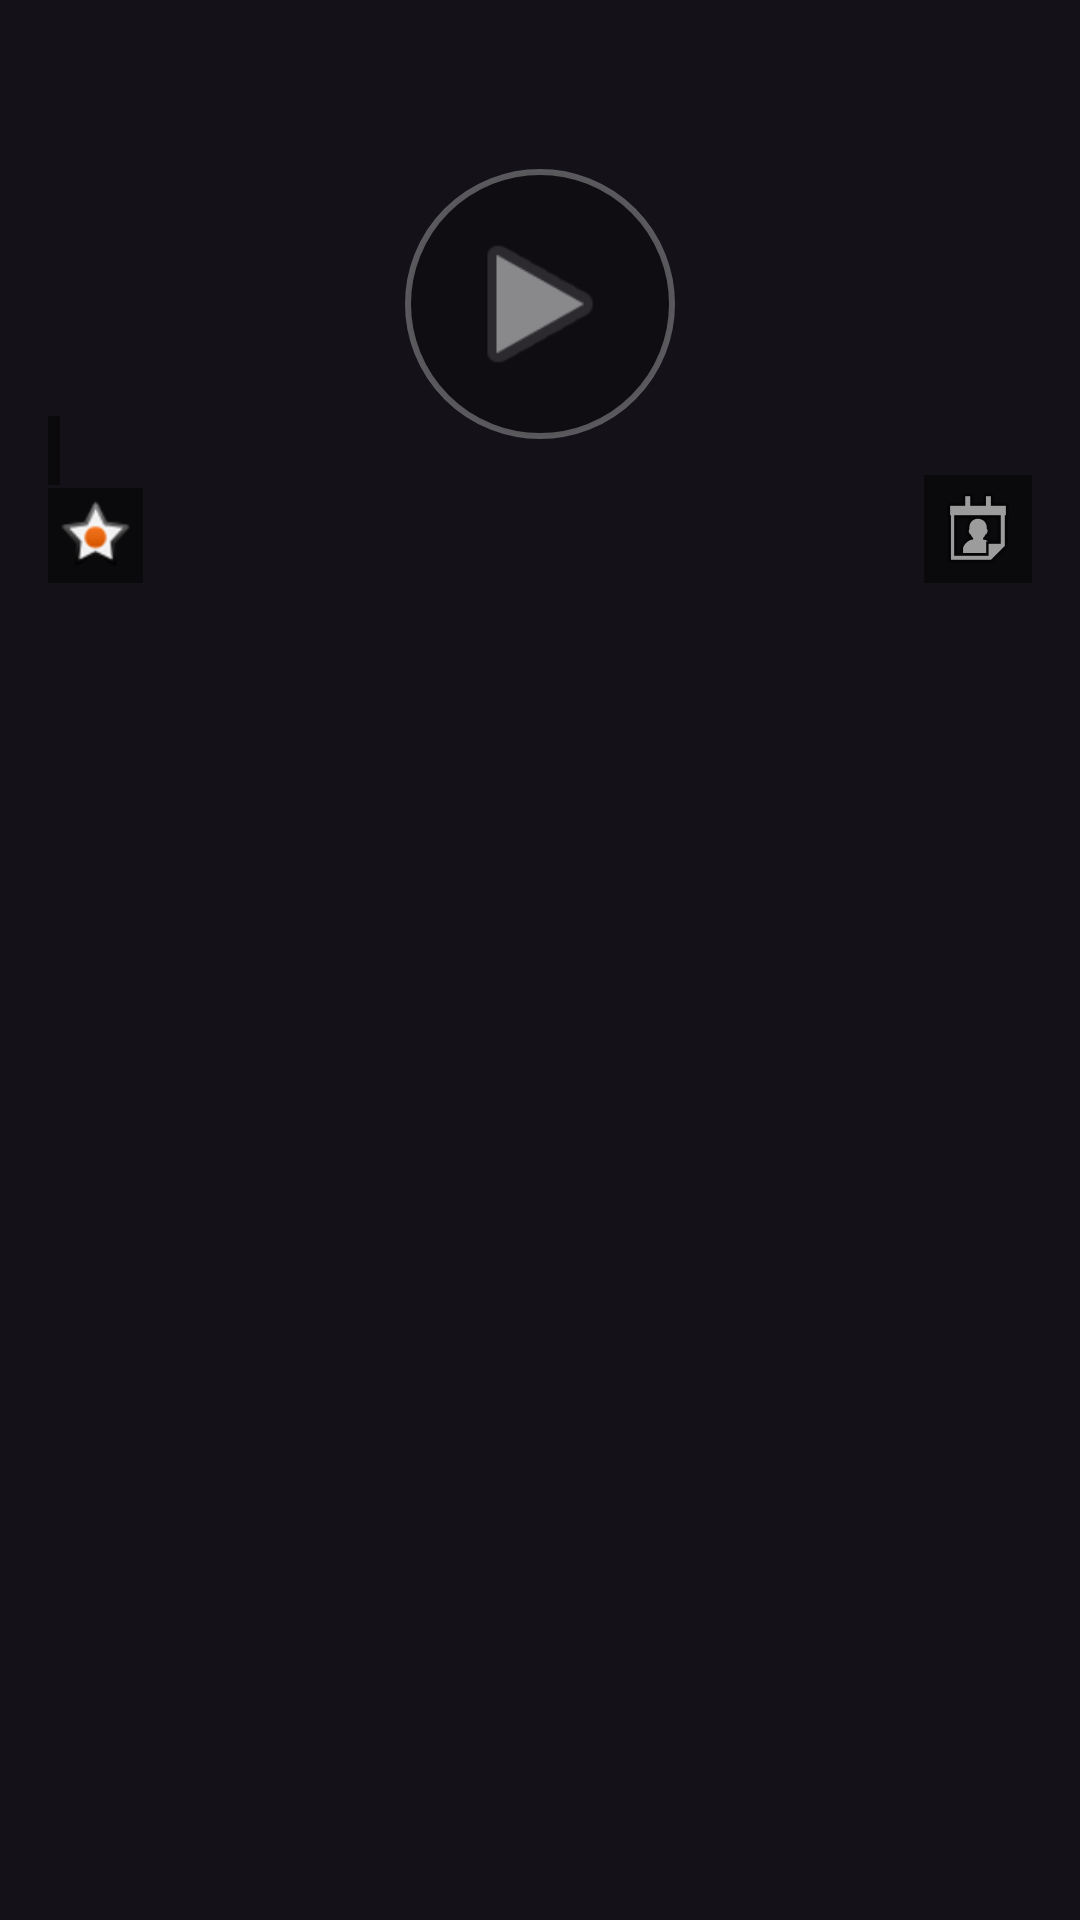

Icons on this 1080x1920 Android screen, each with its box as region(x1, y1, x2, y2):
play: region(405, 169, 675, 439)
